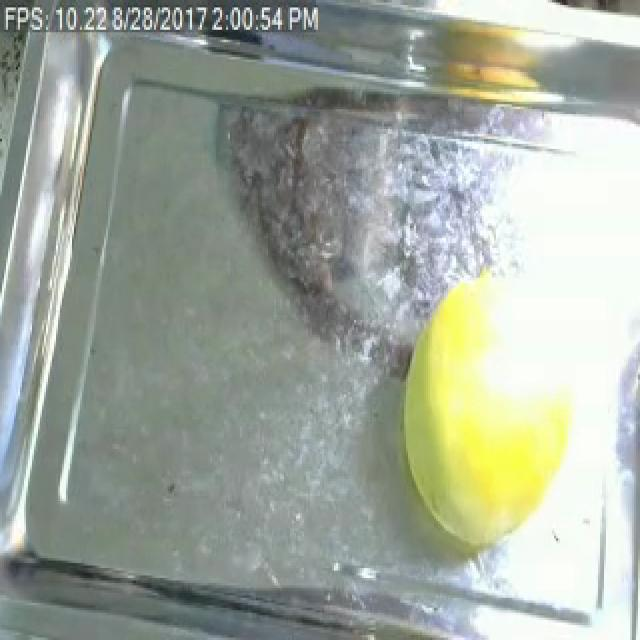fruit: (378, 248, 596, 578)
